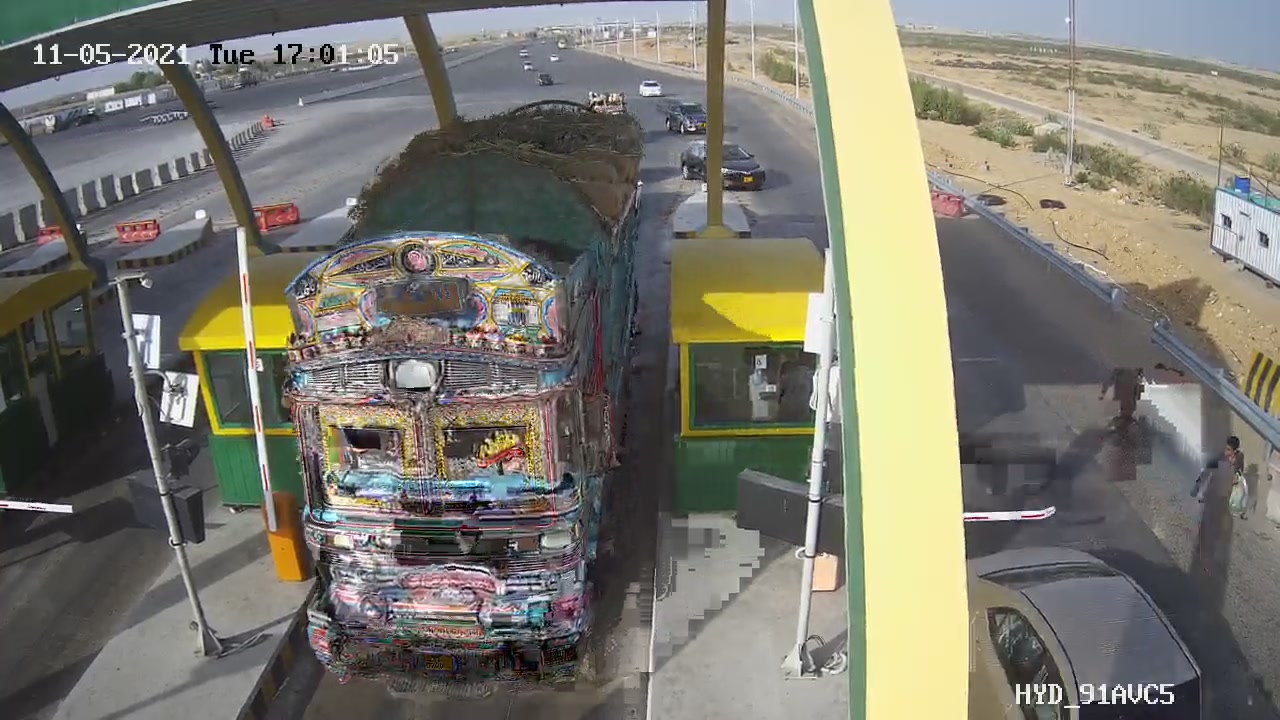F5: (265, 85, 685, 712)
